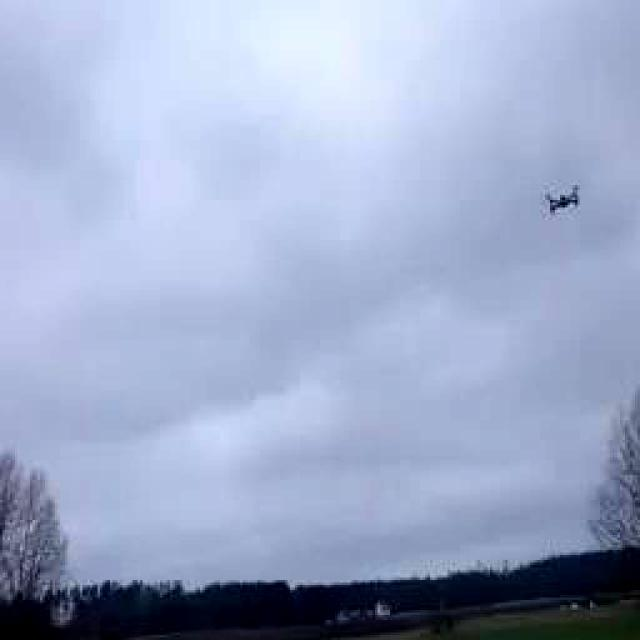bird: (510, 161, 605, 234)
